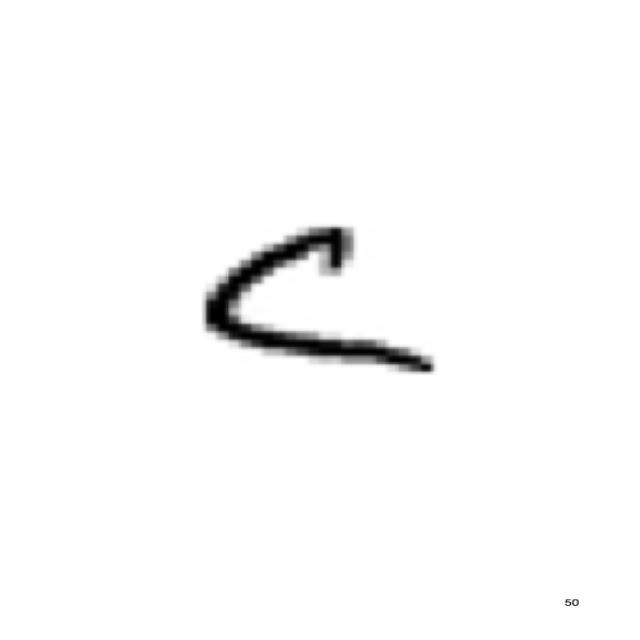2 -two-: (183, 211, 456, 388)
